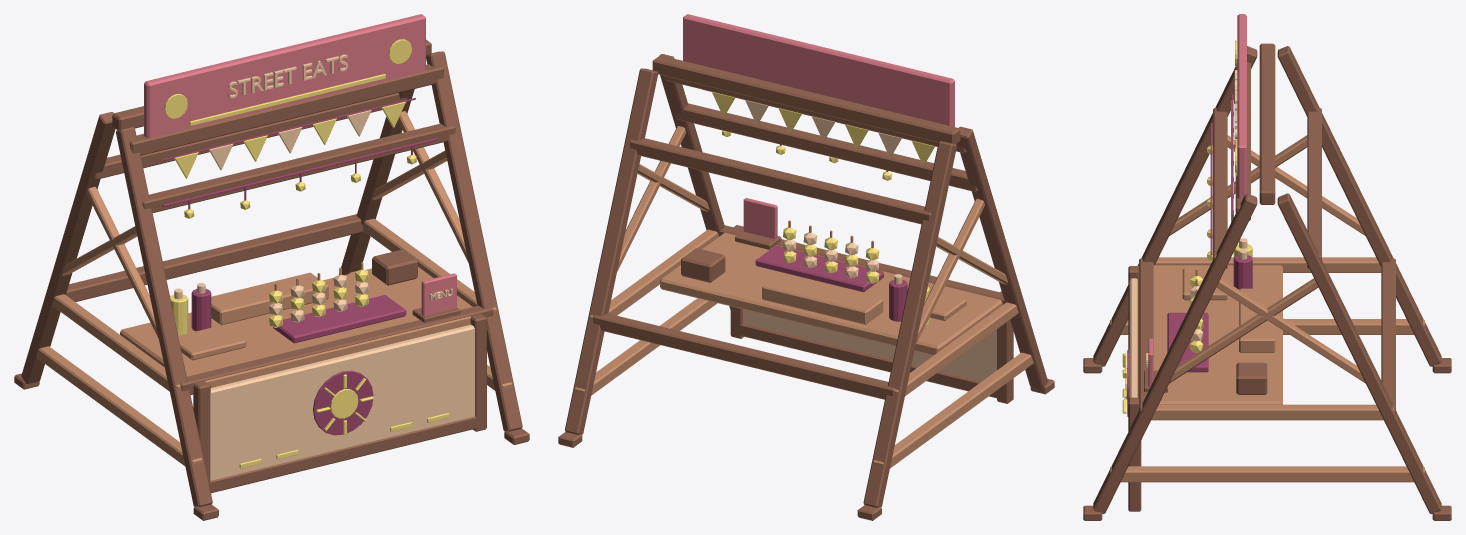
Rendered from food_booth_s4.glb.
3 views of the same model, side by side, from view 1: azimuth 30°, elevation 25°; view 2: azimuth 150°, elevation 25°; view 3: azimuth 270°, elevation 25° (orthographic). The views are drawn at different scales.
Visible parts, largest first — view 1: Tutorial_CanopyBooth_s4; view 2: Tutorial_CanopyBooth_s4; view 3: Tutorial_CanopyBooth_s4.
Part boxes in pixels (x1,y1,x2,y2): Tutorial_CanopyBooth_s4: (14, 14, 529, 520); Tutorial_CanopyBooth_s4: (558, 14, 1054, 520); Tutorial_CanopyBooth_s4: (1083, 14, 1451, 520).
Bounding box in the file's own units: 4.27 × 4.65 × 4.27.
